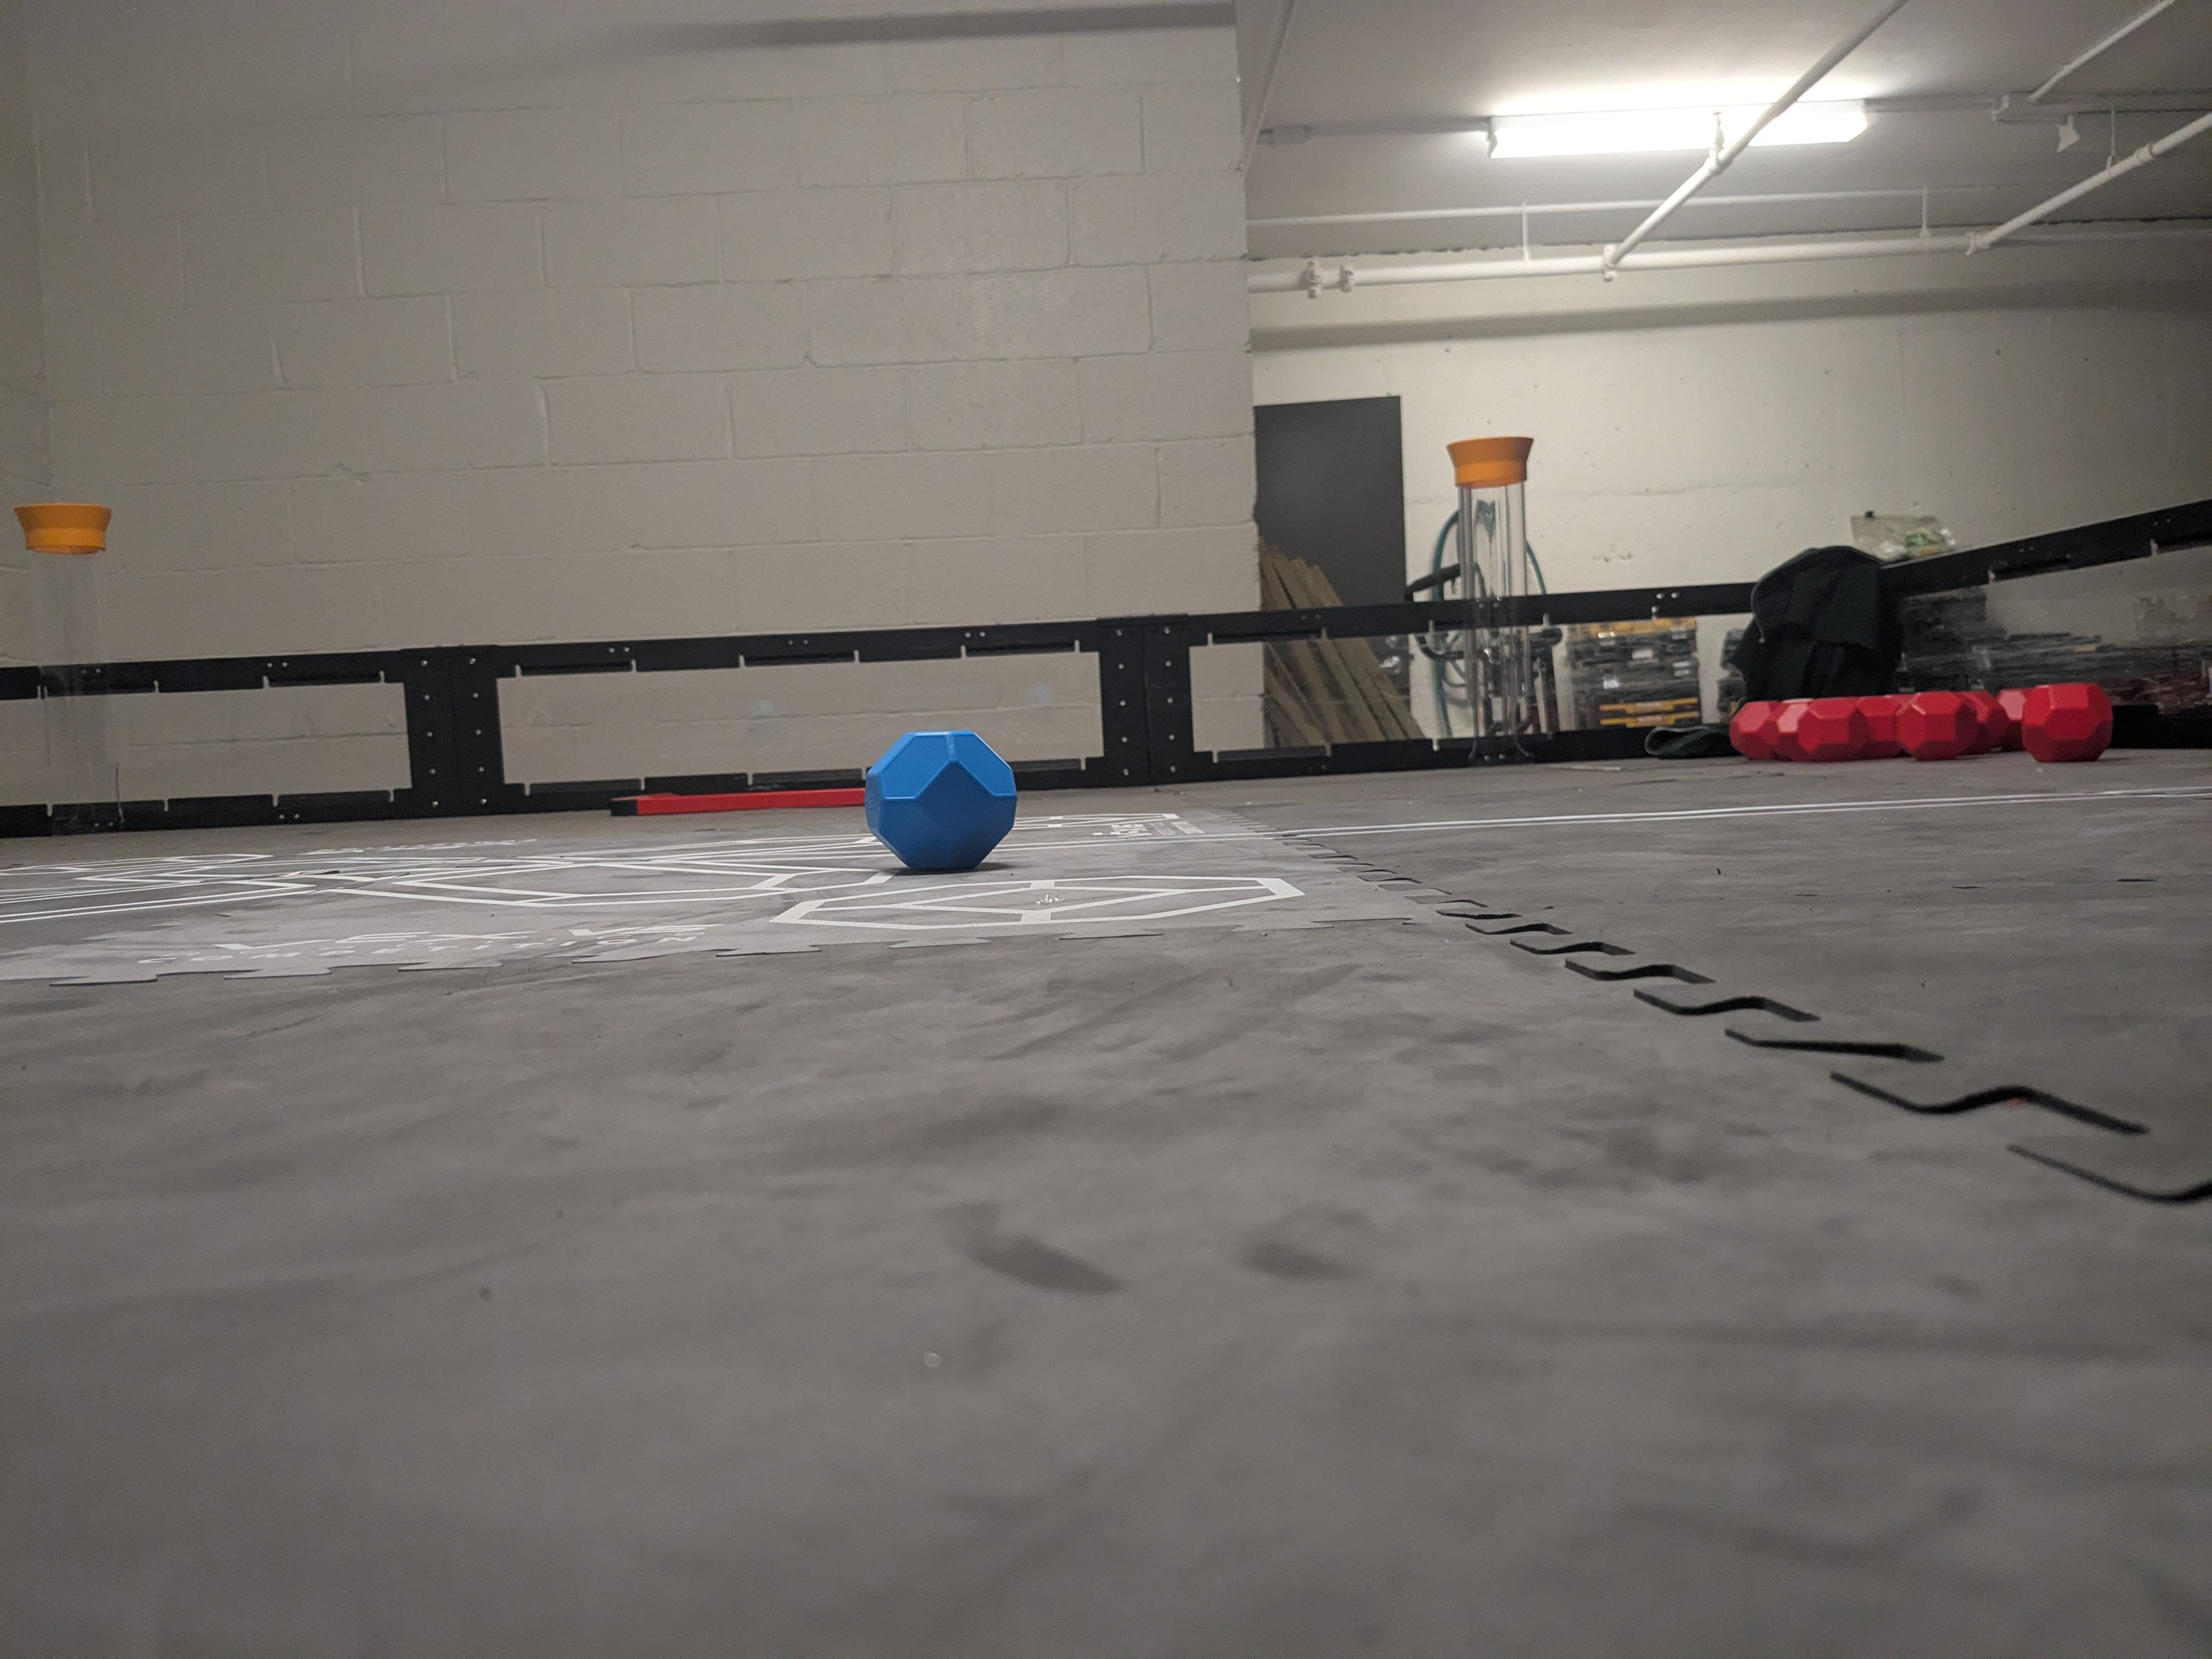Vex-Pieces-BLUE: (864, 730, 1019, 868)
